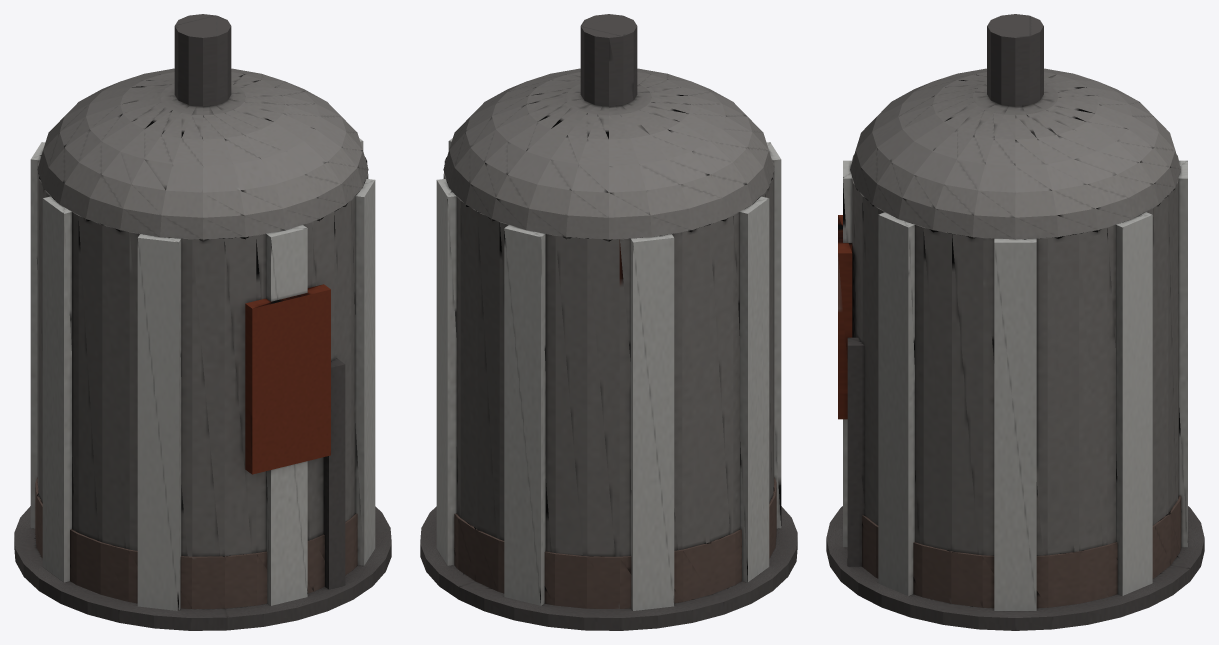
The model's file is storage_tank_1_kiln.glb.
3 views of the same model, side by side, from view 1: azimuth 30°, elevation 25°; view 2: azimuth 150°, elevation 25°; view 3: azimuth 270°, elevation 25° (orthographic).
Parts seen in each view (by area): view 1: Cube; view 2: Cube; view 3: Cube.
Part boxes in pixels (bbox=[...]): Cube: bbox=[14, 14, 391, 630]; Cube: bbox=[420, 14, 797, 630]; Cube: bbox=[826, 14, 1204, 630].
Bounding box in the file's own units: 8 × 12.25 × 8.
1 material, 1 textured.
